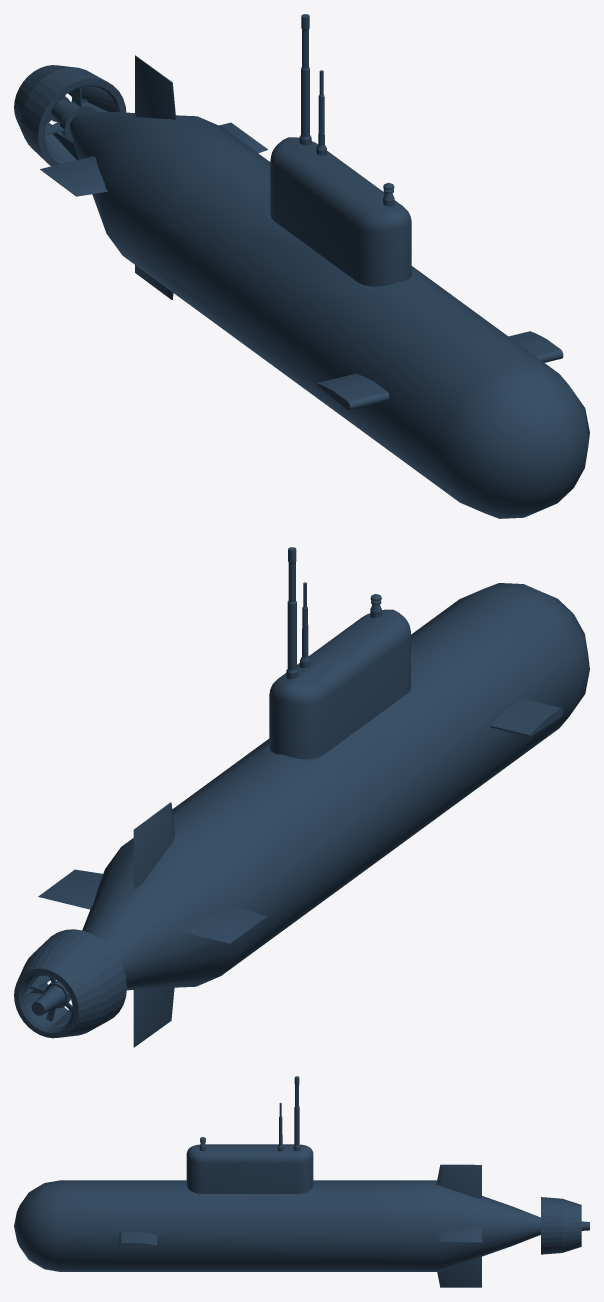
The model's file is USSubmarine.fbx.
3 renders of one model, top to bottom at view 1: azimuth 30°, elevation 25°; view 2: azimuth 150°, elevation 25°; view 3: azimuth 270°, elevation 25°, orthographic. The views are drawn at different scales.
Parts seen in each view (by area): view 1: Submarine Hull, Rudder, Diving Planes, Periscope; view 2: Submarine Hull, Rudder, Diving Planes, Periscope; view 3: Submarine Hull, Rudder, Diving Planes, Periscope.
Part boxes in pixels (<box>): Submarine Hull: <box>14,65,589,518</box>; Rudder: <box>40,55,267,299</box>; Diving Planes: <box>316,331,563,410</box>; Periscope: <box>299,14,311,145</box>; Submarine Hull: <box>14,583,589,1038</box>; Rudder: <box>38,802,267,1047</box>; Diving Planes: <box>490,698,563,736</box>; Periscope: <box>286,547,298,678</box>; Submarine Hull: <box>14,1144,589,1271</box>; Rudder: <box>436,1164,481,1287</box>; Diving Planes: <box>119,1232,156,1247</box>; Periscope: <box>293,1076,300,1151</box>.
Bounding box in the file's own units: 302 × 509 × 1254.
